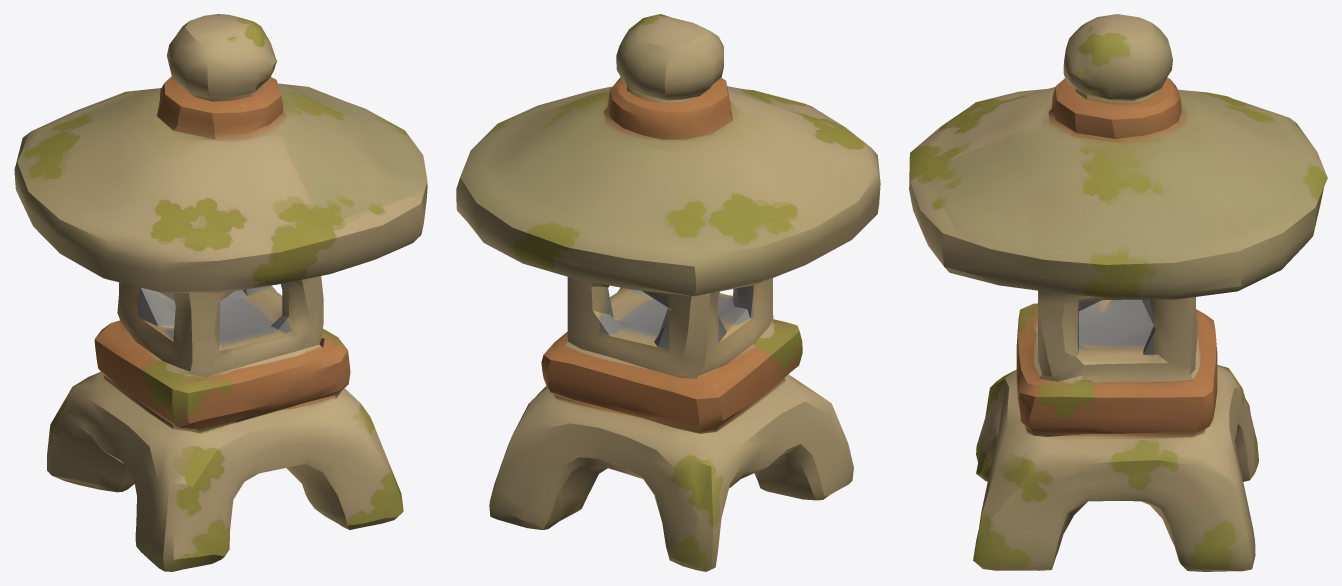
The model's file is Manor_StoneLantern_01.glb.
3 renders of one model, left to right at view 1: azimuth 30°, elevation 25°; view 2: azimuth 150°, elevation 25°; view 3: azimuth 270°, elevation 25°, orthographic. The views are drawn at different scales.
Parts seen in each view (by area): view 1: Manor_StoneLantern_01.001; view 2: Manor_StoneLantern_01.001; view 3: Manor_StoneLantern_01.001.
Part boxes in pixels (box(x1,y1,x2,y2)): Manor_StoneLantern_01.001: box(14, 14, 427, 571); Manor_StoneLantern_01.001: box(456, 14, 880, 571); Manor_StoneLantern_01.001: box(909, 14, 1327, 571).
Size of the model in its own units: 0.7806 by 1 by 0.7712.
1 material, 1 textured.
